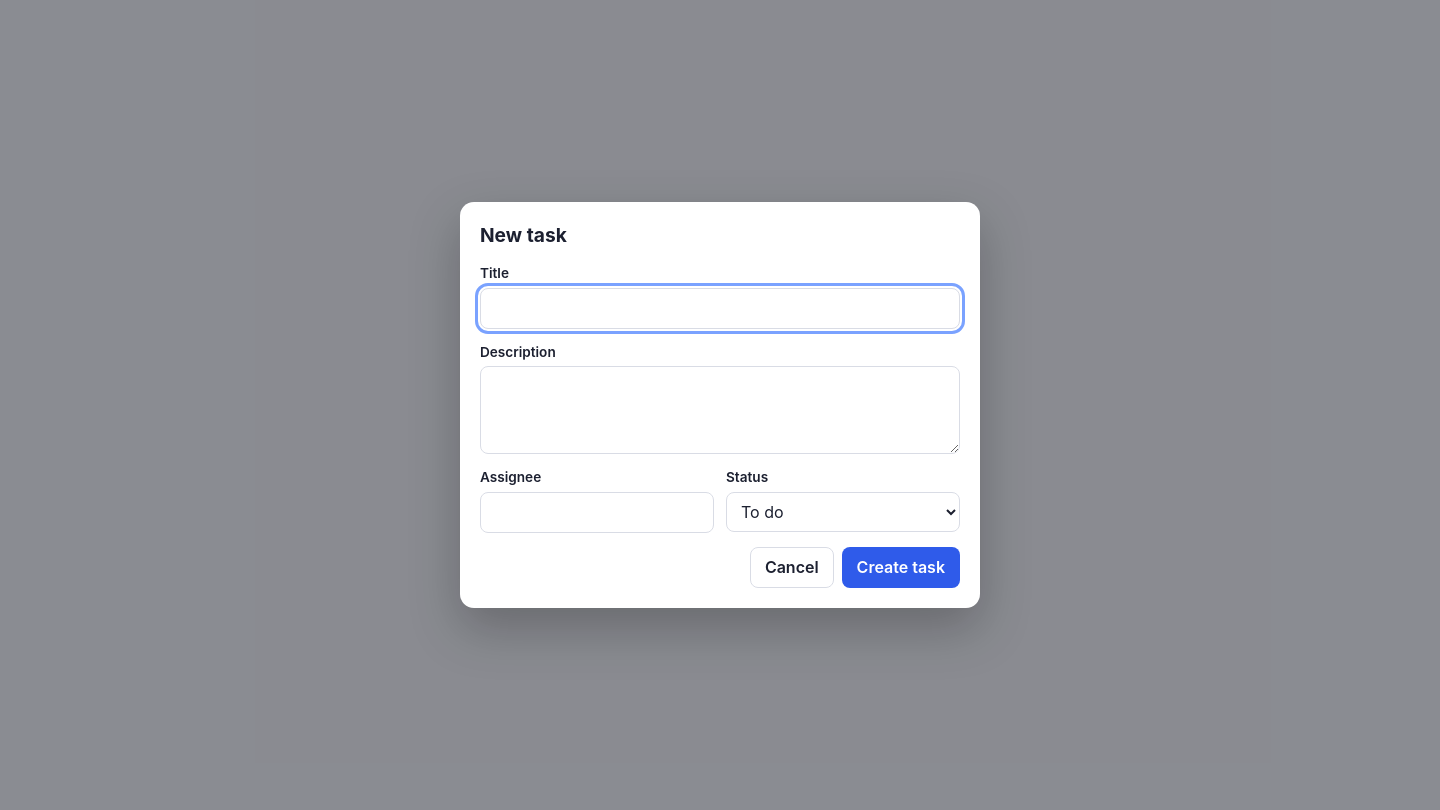
TaskDialog › shows server-side validation errors next to the field
Type "x" into the field labelled "Title" at (720, 308), box x1=480 y1=288 x2=960 y2=329
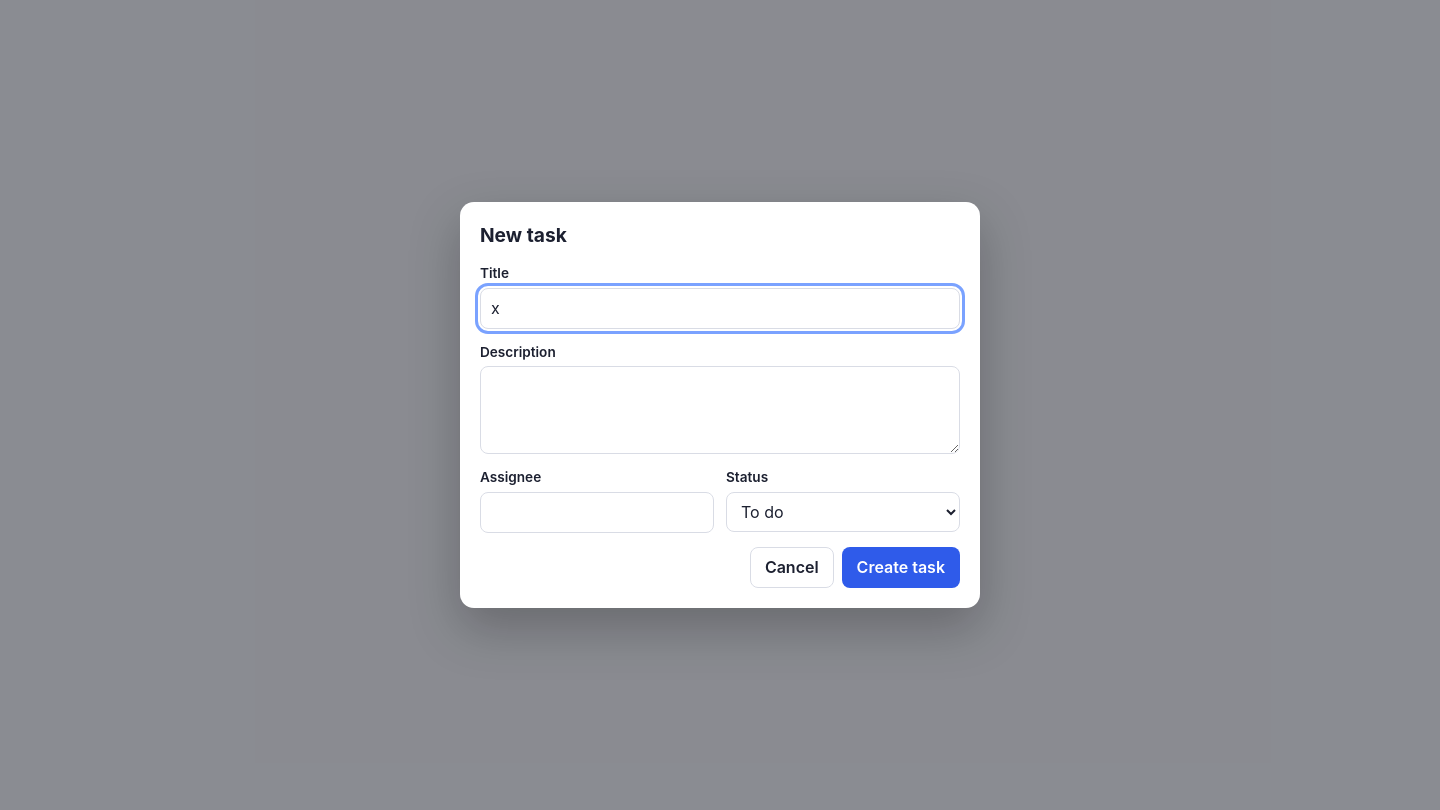
Click the button "Create task" at (901, 567), box x1=842 y1=547 x2=960 y2=588
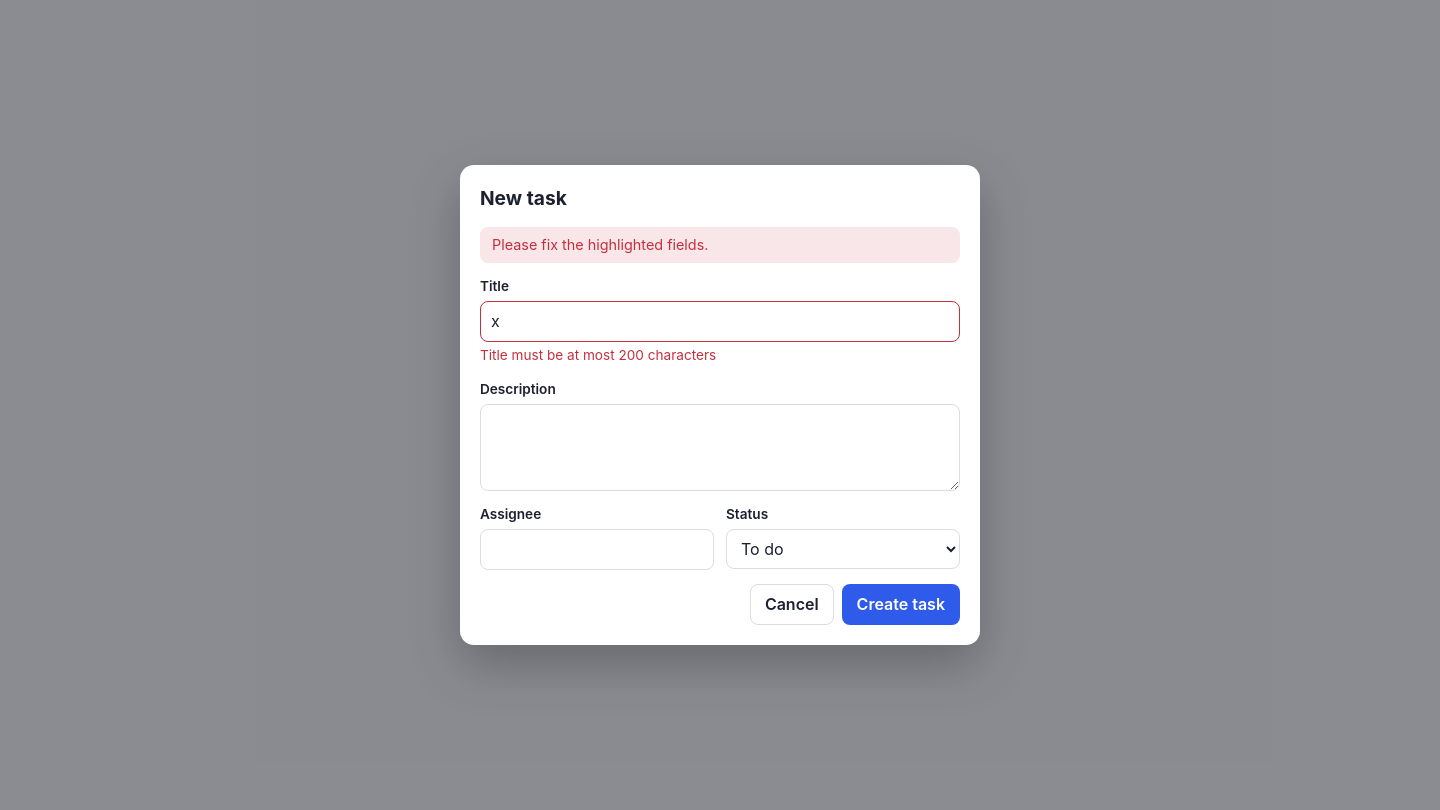
Expected: the button "Create task" is enabled, x1=842 y1=584 x2=960 y2=625
Result: the text with test id "title-error" reads "Title must be at most 200 characters" at x1=480 y1=347 x2=716 y2=363
Result: the message reads "Please fix the highlighted fields." at x1=492 y1=236 x2=708 y2=252
